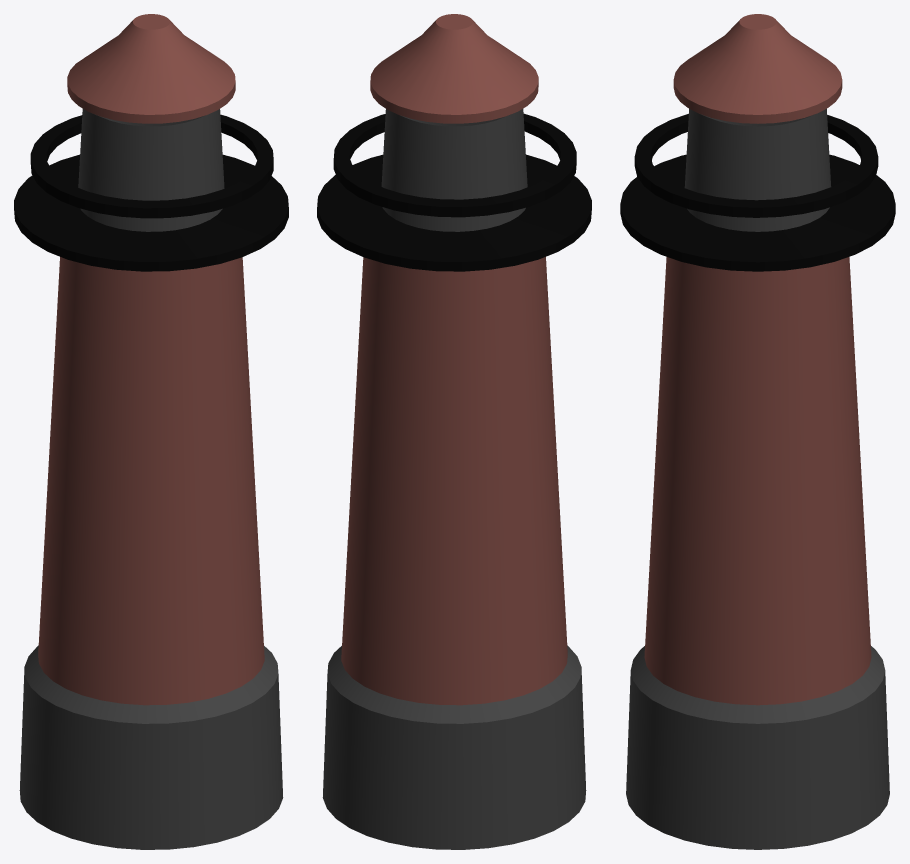
The model's file is LightHouse.fbx.
The picture shows the model from 3 angles, left to right: view 1: azimuth 30°, elevation 25°; view 2: azimuth 150°, elevation 25°; view 3: azimuth 270°, elevation 25°; orthographic projection.
Visible parts, largest first — view 1: LightHouse; view 2: LightHouse; view 3: LightHouse.
Boxes of the visible parts, x1=… form: LightHouse: x1=14, y1=14, x2=288, y2=849; LightHouse: x1=317, y1=14, x2=591, y2=849; LightHouse: x1=620, y1=14, x2=895, y2=849.
Bounding box in the file's own units: 251 × 776 × 251.
